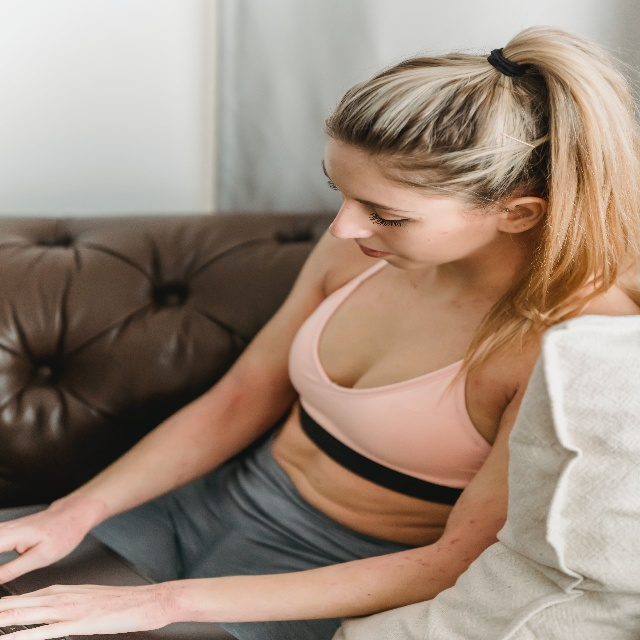Sin_guantes: (0, 569, 168, 631), (0, 508, 83, 581)
